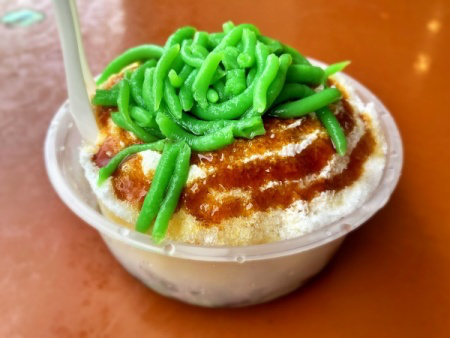Chendol: (78, 12, 385, 245)
